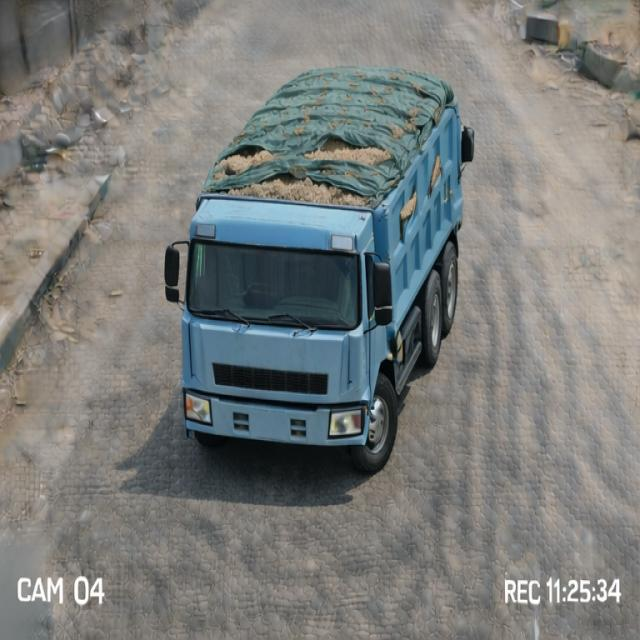trailer: (205, 65, 453, 212)
truck: (157, 54, 484, 490)
